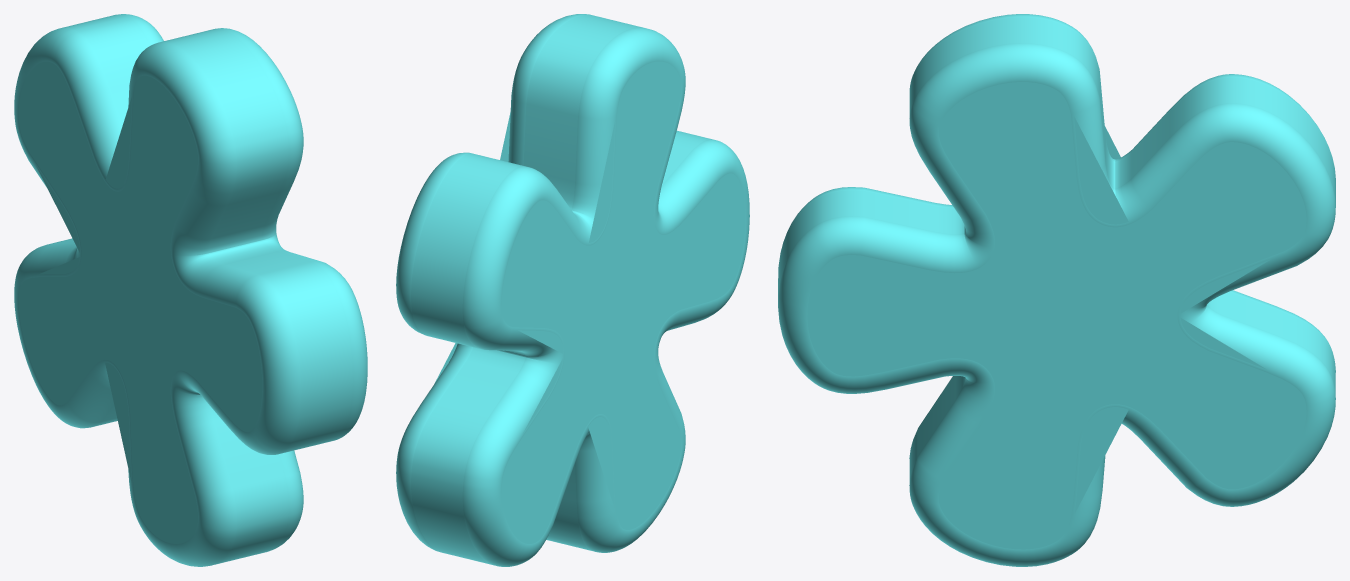
Rendered from skyblue-flower.fbx.
3 views of the same model, side by side, from view 1: azimuth 30°, elevation 25°; view 2: azimuth 150°, elevation 25°; view 3: azimuth 270°, elevation 25° (orthographic). The views are drawn at different scales.
Parts seen in each view (by area): view 1: Extrude; view 2: Extrude; view 3: Extrude.
Part boxes in pixels (bbox=[...]): Extrude: bbox=[14, 14, 367, 566]; Extrude: bbox=[396, 14, 749, 566]; Extrude: bbox=[778, 14, 1335, 566].
Bounding box in the file's own units: 17.61 × 84.56 × 82.1.
